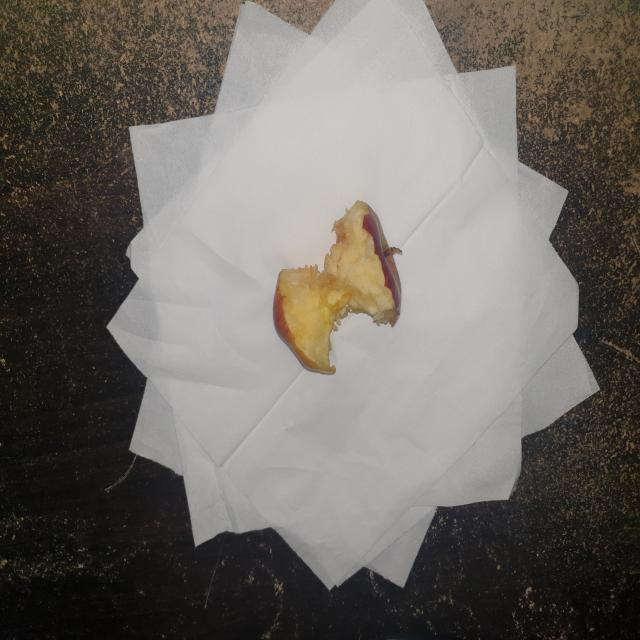apple: (268, 195, 413, 384)
